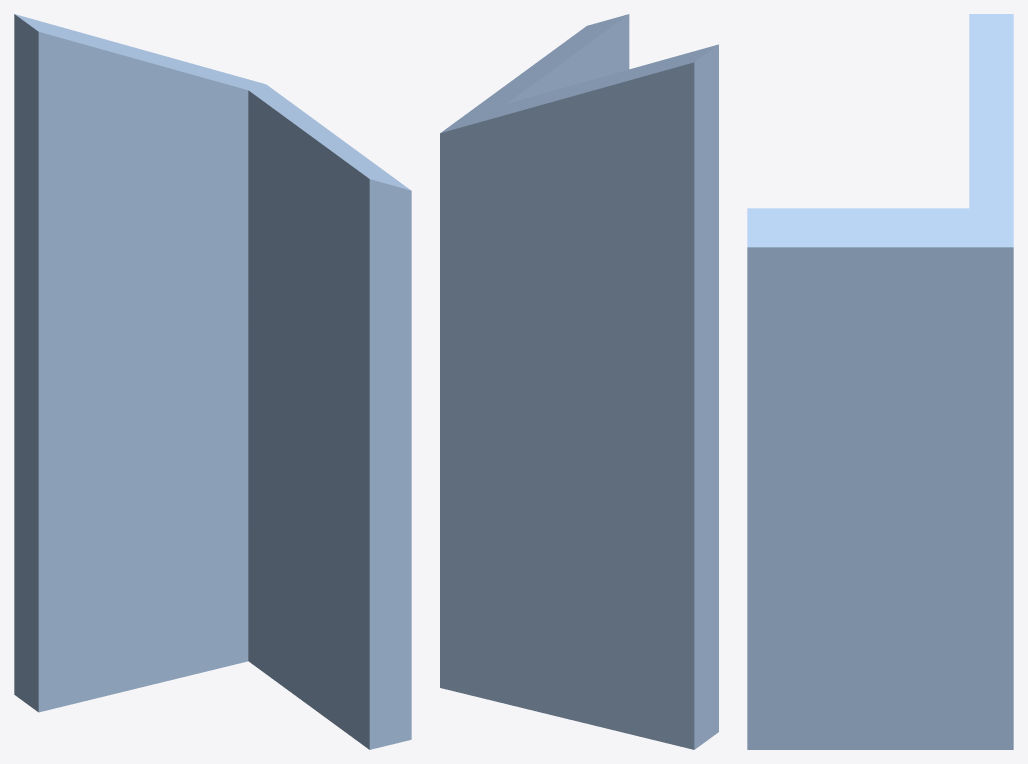
Rendered from SM_WallCornerStairs_Out_1x2_02b.glb.
The picture shows the model from 3 angles, left to right: view 1: azimuth 30°, elevation 25°; view 2: azimuth 150°, elevation 25°; view 3: azimuth 270°, elevation 25°; orthographic projection. The views are drawn at different scales.
Visible parts, largest first — view 1: SM_WallCornerStairs_Out_1x2_02b; view 2: SM_WallCornerStairs_Out_1x2_02b; view 3: SM_WallCornerStairs_Out_1x2_02b.
Boxes of the visible parts, x1,y1,x2,y2 form: SM_WallCornerStairs_Out_1x2_02b: (14, 14, 411, 749); SM_WallCornerStairs_Out_1x2_02b: (440, 14, 718, 749); SM_WallCornerStairs_Out_1x2_02b: (747, 14, 1013, 749).
Size of what is drawn, in the model's own units: 1.2 by 3.1 by 1.2.
